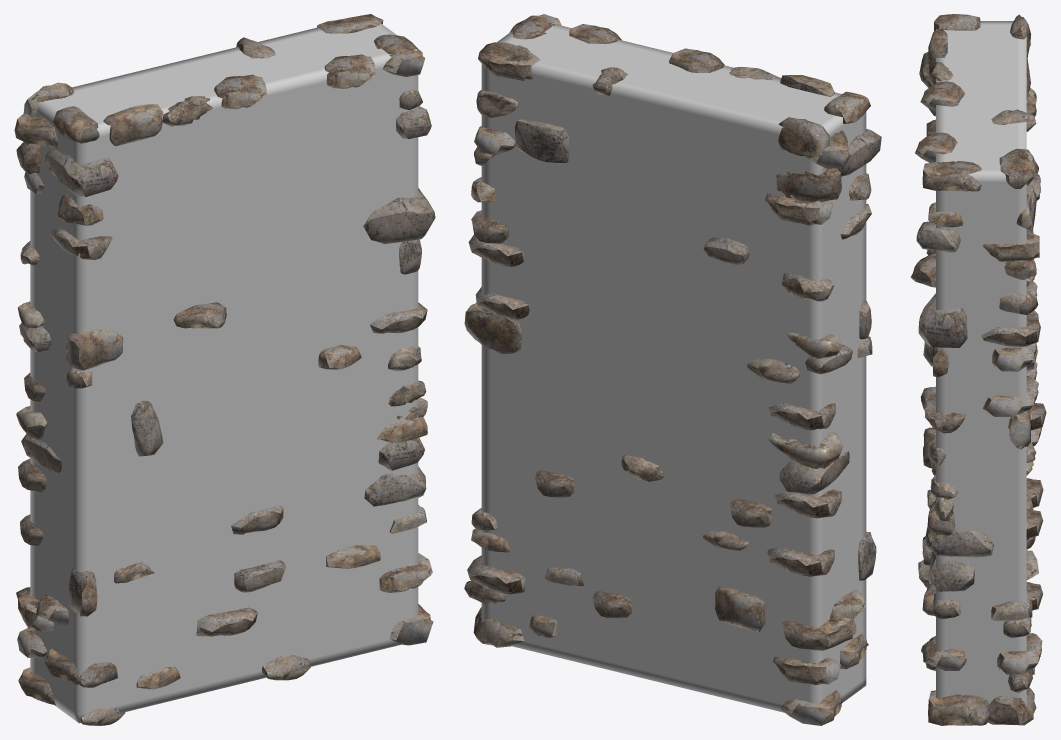
Rendered from SM_Wall07.FBX.
3 renders of one model, left to right at view 1: azimuth 30°, elevation 25°; view 2: azimuth 150°, elevation 25°; view 3: azimuth 270°, elevation 25°, orthographic. The views are drawn at different scales.
Parts seen in each view (by area): view 1: SM_Wall07; view 2: SM_Wall07; view 3: SM_Wall07.
Part boxes in pixels (box(x1,y1,x2,y2)): SM_Wall07: box(14, 14, 435, 725); SM_Wall07: box(464, 14, 881, 725); SM_Wall07: box(910, 14, 1046, 725).
Bounding box in the file's own units: 675 × 226 × 1033.
